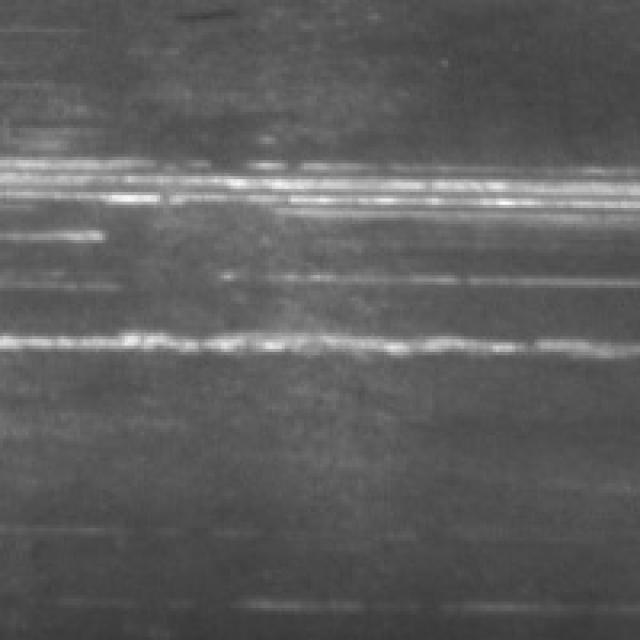scratches: (0, 154, 634, 236), (0, 310, 634, 368)
